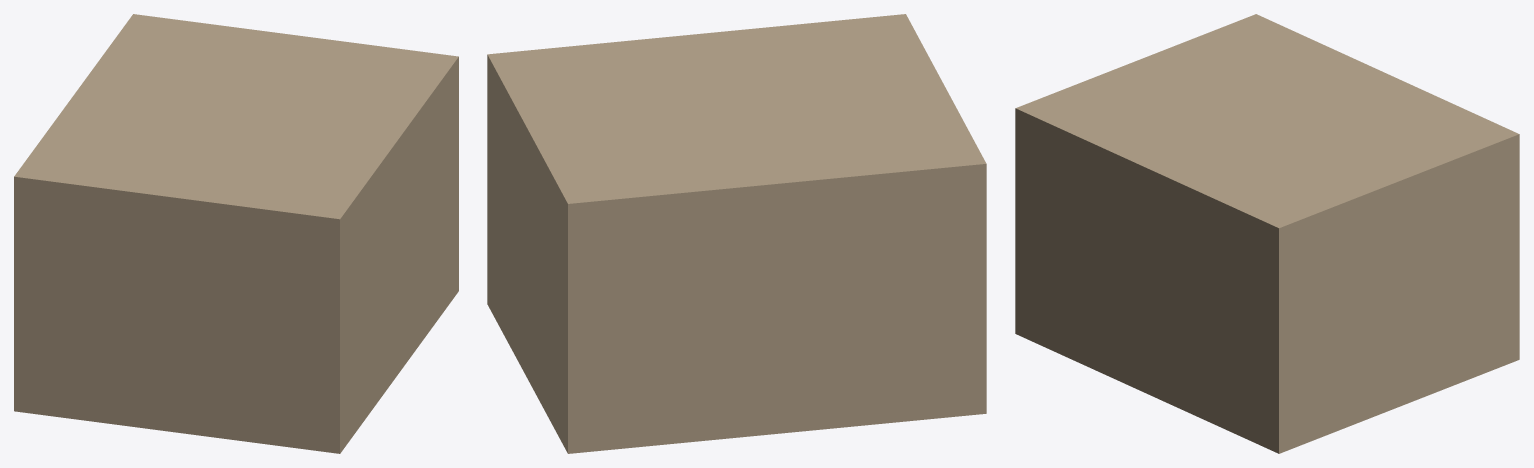
Rendered from bld_106339013.dae.
The picture shows the model from 3 angles, left to right: view 1: azimuth 30°, elevation 25°; view 2: azimuth 150°, elevation 25°; view 3: azimuth 270°, elevation 25°; orthographic projection. The views are drawn at different scales.
Visible parts, largest first — view 1: bld_106339013; view 2: bld_106339013; view 3: bld_106339013.
Boxes of the visible parts, left/top/right/bottom form: bld_106339013: left=14, top=14, right=458, bottom=453; bld_106339013: left=487, top=14, right=986, bottom=453; bld_106339013: left=1015, top=14, right=1519, bottom=453.
Bounding box in the file's own units: 16.29 × 16.19 × 8.
